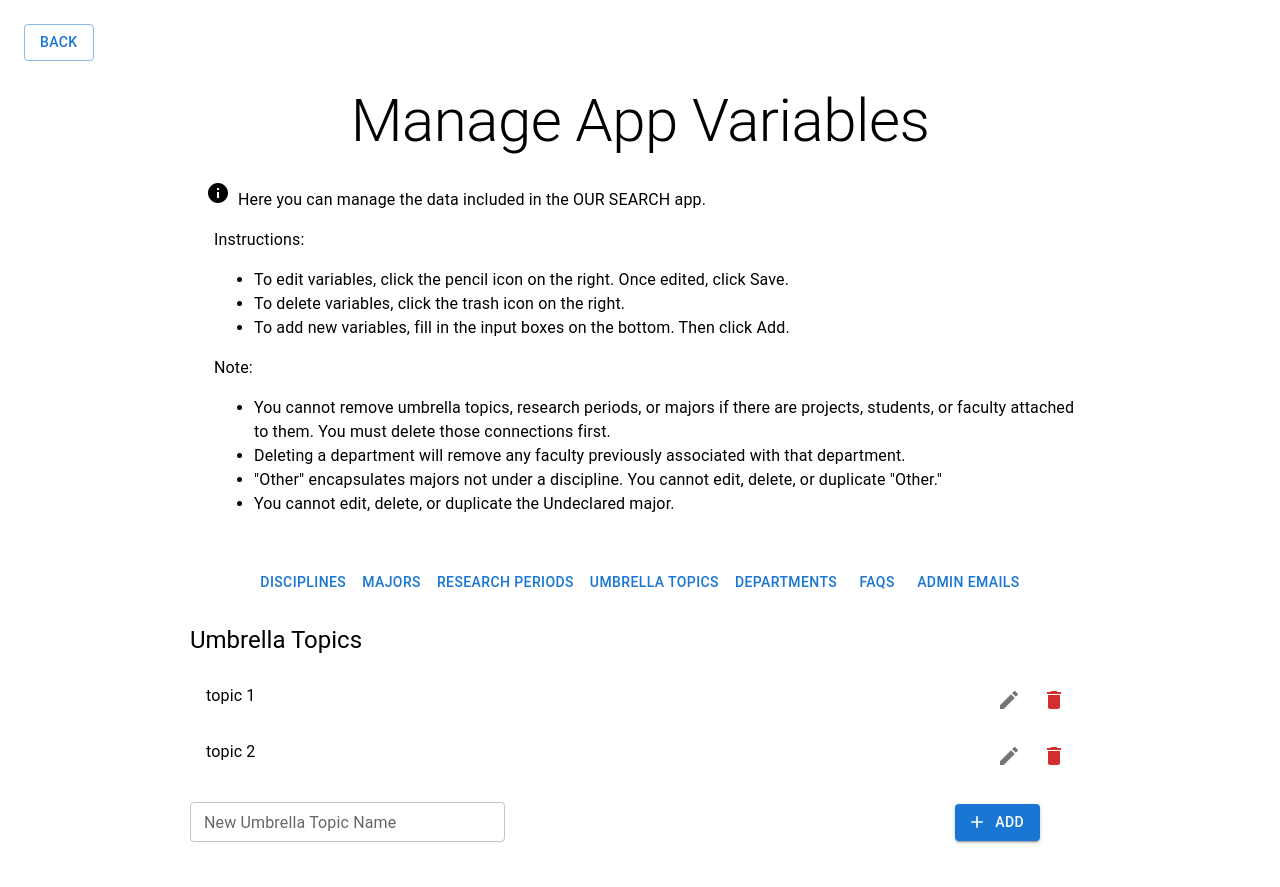
Test: ManageVariables › handling umbrella topics › editing › shows edit button; shows save button after clicking edit
Click the 1st button with test id "edit-umbrella-btn" at coordinates (1009, 700), box [989, 680, 1029, 720]
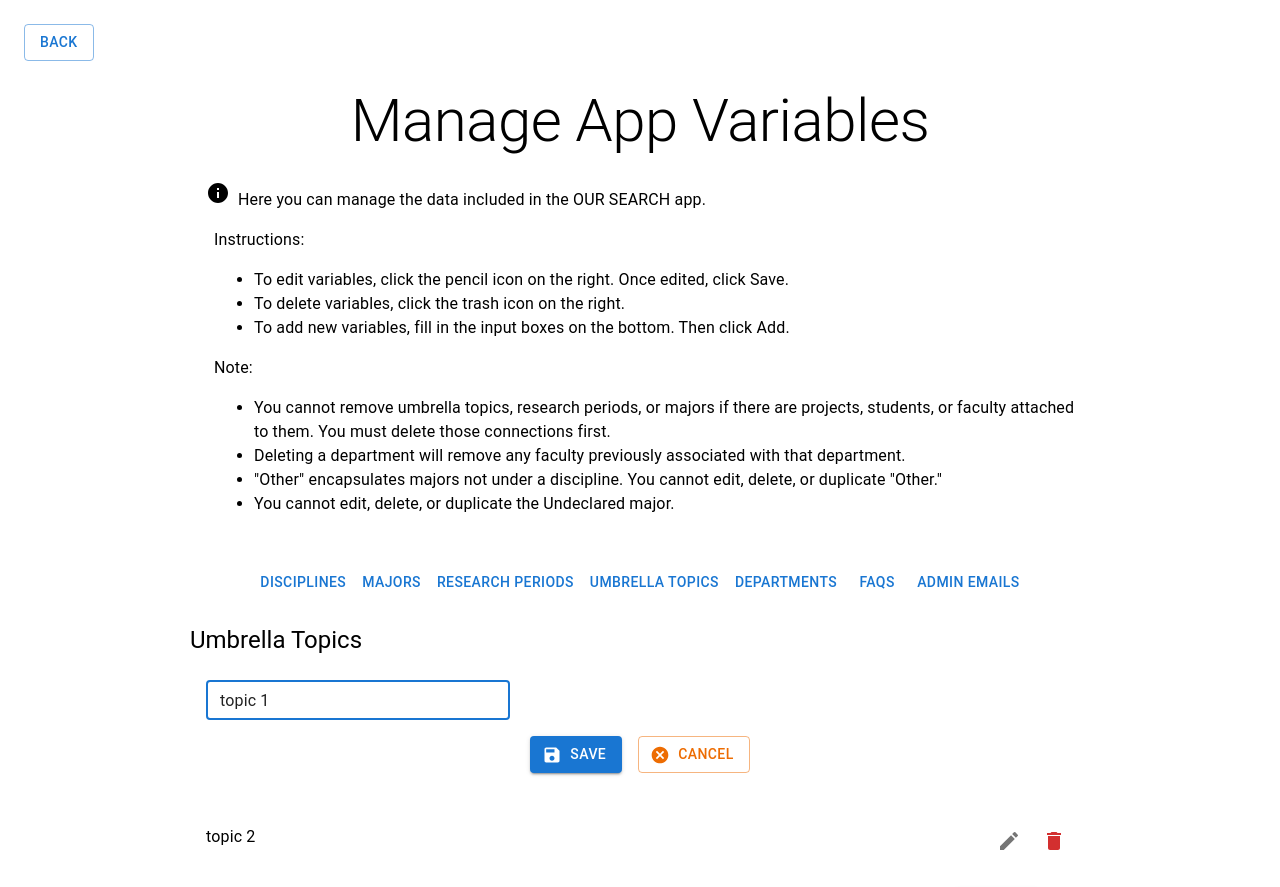
Result: the button with test id "save-umbrella-btn" is shown at [530, 736, 622, 773]
